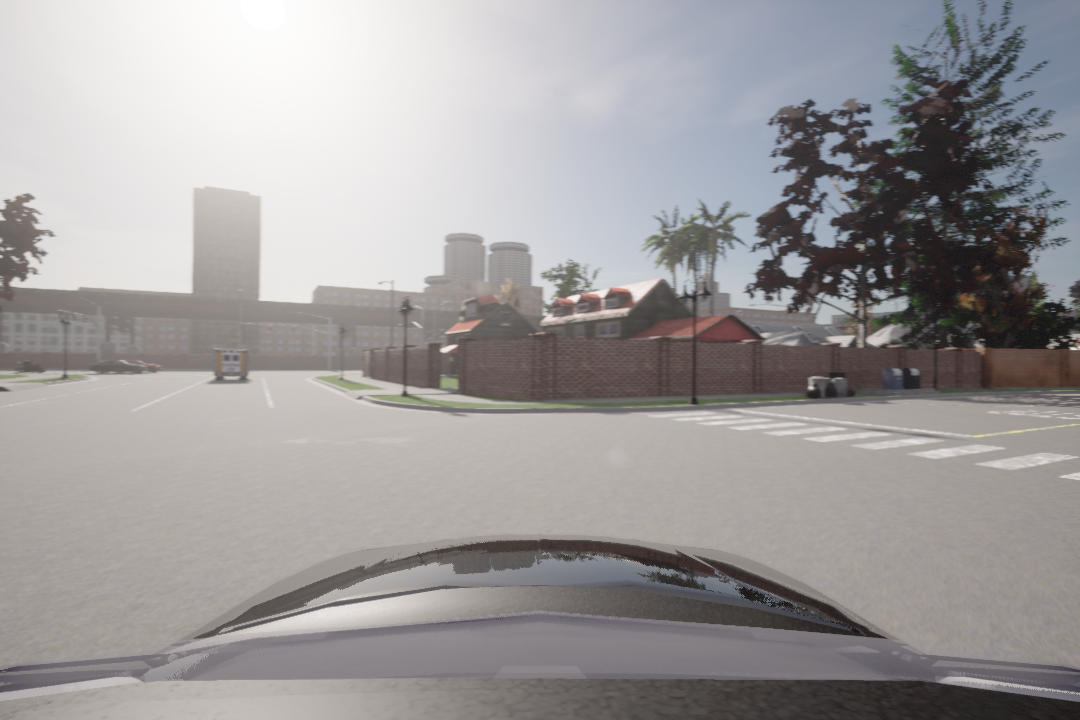walkside: (624, 414, 1080, 482)
